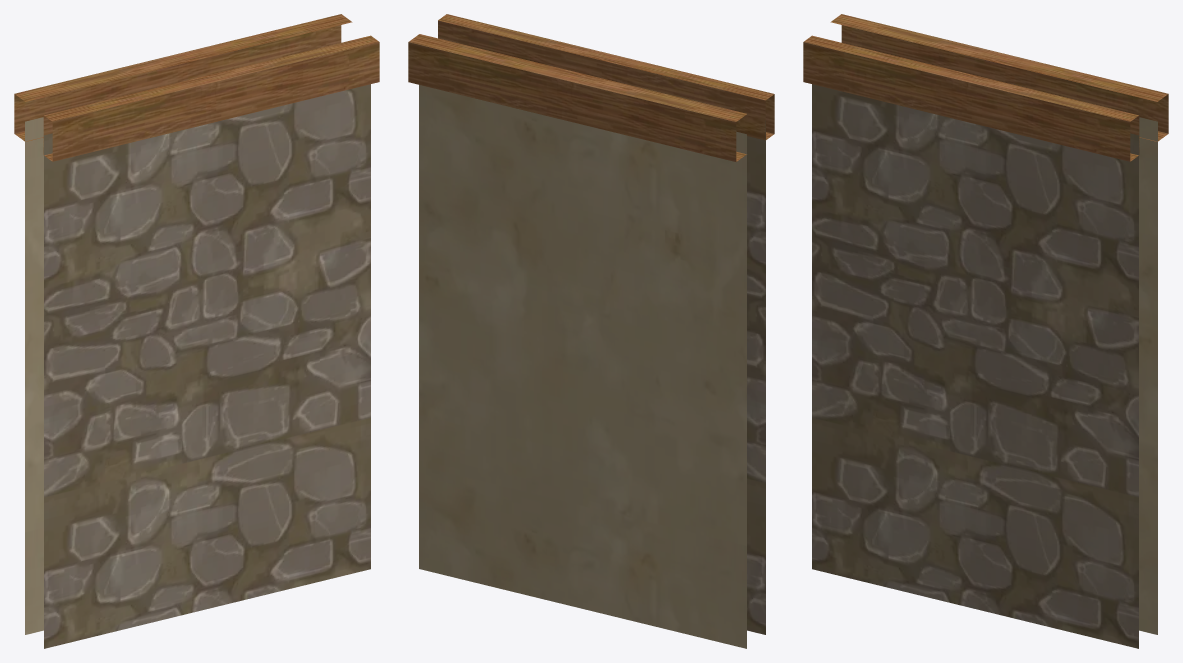
File: Wall_UnevenBrick_Straight.medium.gltf
3 renders of one model, left to right at view 1: azimuth 30°, elevation 25°; view 2: azimuth 150°, elevation 25°; view 3: azimuth 330°, elevation 25°, orthographic.
Parts seen in each view (by area): view 1: Wall_UnevenBrick_Straight; view 2: Wall_UnevenBrick_Straight; view 3: Wall_UnevenBrick_Straight.
Part boxes in pixels (x1,y1,x2,y2): Wall_UnevenBrick_Straight: [14, 14, 379, 648]; Wall_UnevenBrick_Straight: [408, 14, 774, 648]; Wall_UnevenBrick_Straight: [803, 14, 1168, 648].
Bounding box in the file's own units: 2 × 3.12 × 0.4063.
Materials: 3 (3 with a texture image).
